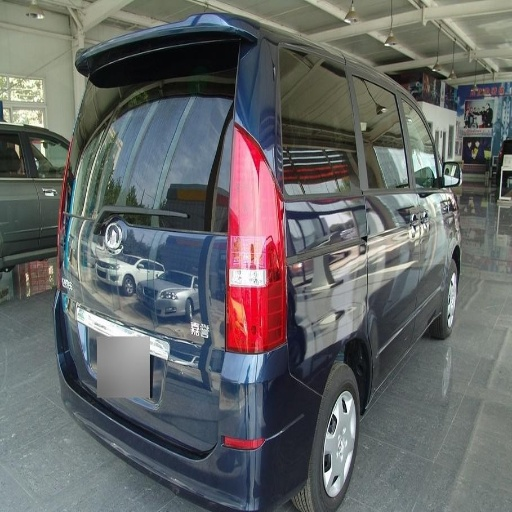back_bumper: (108, 351, 328, 511)
back_glass: (87, 78, 208, 207)
back_left_door: (420, 206, 447, 290)
back_right_door: (373, 243, 413, 349), (370, 116, 406, 167)
back_right_light: (221, 235, 284, 350)
tailgate: (92, 349, 203, 431)
trunk: (79, 209, 226, 437)
